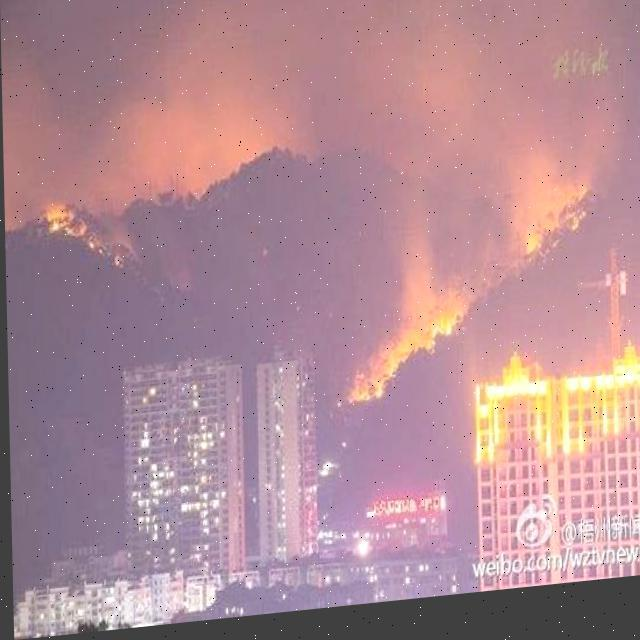Fire: (342, 185, 594, 424), (40, 194, 120, 277)
